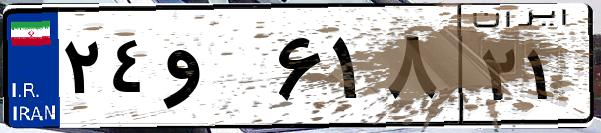1: (330, 28, 385, 110), (525, 38, 570, 115)
2: (57, 26, 110, 100), (475, 38, 525, 113)
4: (110, 28, 158, 98)
6: (270, 28, 330, 110)
8: (385, 28, 445, 110)
و: (158, 20, 270, 120)
